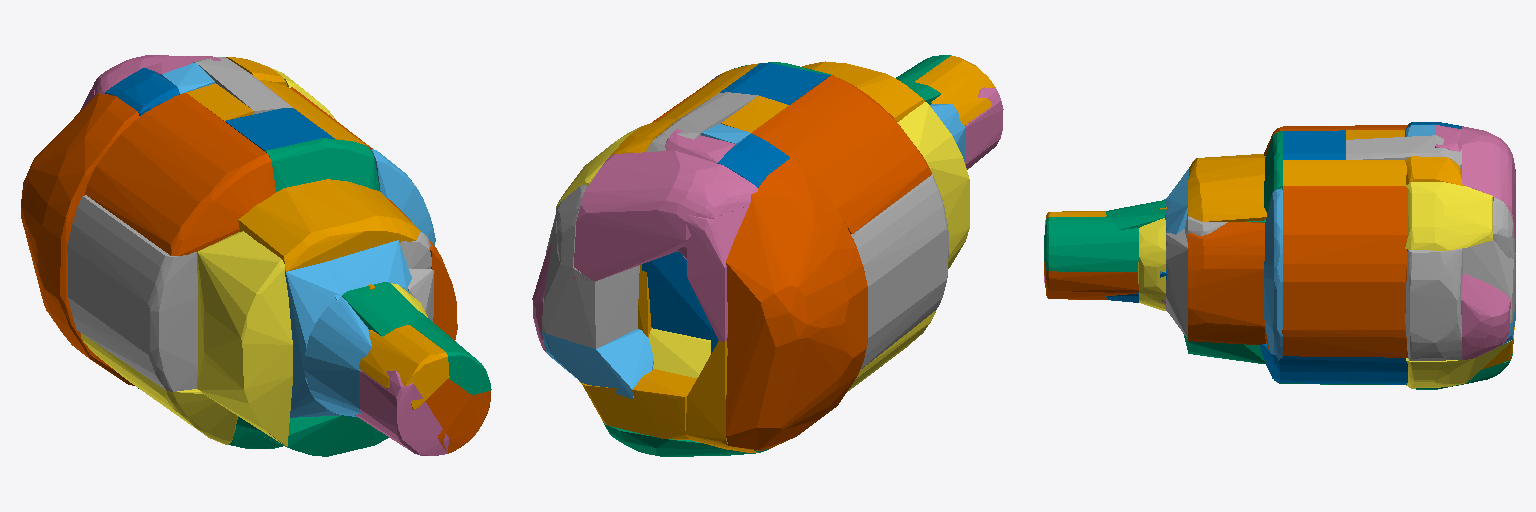
--- Render facts (derived) ---
3 views of the same robot in one strip: view 1: azimuth 30°, elevation 25°; view 2: azimuth 150°, elevation 25°; view 3: azimuth 270°, elevation 25° (orthographic).
Robot: root — 64 links, 63 joints (63 fixed); root link link_screw~screw1_convex_piece_0; default pose: every joint at zero.
Links seen in each view (by area): view 1: link_screw~screw1_convex_piece_61, link_screw~screw1_convex_piece_31, link_screw~screw1_convex_piece_51, link_screw~screw1_convex_piece_45, link_screw~screw1_convex_piece_32, link_screw~screw1_convex_piece_57, link_screw~screw1_convex_piece_54, link_screw~screw1_convex_piece_26, link_screw~screw1_convex_piece_25, link_screw~screw1_convex_piece_48, link_screw~screw1_convex_piece_43, link_screw~screw1_convex_piece_42 (+17 smaller); view 2: link_screw~screw1_convex_piece_45, link_screw~screw1_convex_piece_62, link_screw~screw1_convex_piece_61, link_screw~screw1_convex_piece_31, link_screw~screw1_convex_piece_55, link_screw~screw1_convex_piece_56, link_screw~screw1_convex_piece_51, link_screw~screw1_convex_piece_6, link_screw~screw1_convex_piece_33, link_screw~screw1_convex_piece_60, link_screw~screw1_convex_piece_40, link_screw~screw1_convex_piece_48 (+18 smaller); view 3: link_screw~screw1_convex_piece_21, link_screw~screw1_convex_piece_29, link_screw~screw1_convex_piece_23, link_screw~screw1_convex_piece_19, link_screw~screw1_convex_piece_32, link_screw~screw1_convex_piece_18, link_screw~screw1_convex_piece_28, link_screw~screw1_convex_piece_37, link_screw~screw1_convex_piece_62, link_screw~screw1_convex_piece_22, link_screw~screw1_convex_piece_24, link_screw~screw1_convex_piece_41 (+15 smaller).
Boxes of the visible links, bbox=[...] form: link_screw~screw1_convex_piece_61: bbox=[85, 93, 275, 255]; link_screw~screw1_convex_piece_31: bbox=[67, 195, 197, 391]; link_screw~screw1_convex_piece_51: bbox=[197, 231, 292, 446]; link_screw~screw1_convex_piece_45: bbox=[21, 92, 139, 385]; link_screw~screw1_convex_piece_32: bbox=[238, 179, 420, 271]; link_screw~screw1_convex_piece_57: bbox=[304, 296, 371, 416]; link_screw~screw1_convex_piece_54: bbox=[356, 370, 448, 455]; link_screw~screw1_convex_piece_26: bbox=[265, 138, 379, 191]; link_screw~screw1_convex_piece_25: bbox=[285, 262, 341, 417]; link_screw~screw1_convex_piece_48: bbox=[359, 325, 449, 409]; link_screw~screw1_convex_piece_43: bbox=[81, 333, 238, 444]; link_screw~screw1_convex_piece_42: bbox=[236, 415, 388, 456]; link_screw~screw1_convex_piece_45: bbox=[726, 158, 867, 451]; link_screw~screw1_convex_piece_62: bbox=[573, 151, 757, 281]; link_screw~screw1_convex_piece_61: bbox=[752, 75, 931, 233]; link_screw~screw1_convex_piece_31: bbox=[851, 174, 948, 369]; link_screw~screw1_convex_piece_55: bbox=[542, 217, 639, 348]; link_screw~screw1_convex_piece_56: bbox=[582, 369, 696, 440]; link_screw~screw1_convex_piece_51: bbox=[897, 102, 969, 268]; link_screw~screw1_convex_piece_6: bbox=[686, 206, 748, 341]; link_screw~screw1_convex_piece_33: bbox=[542, 329, 653, 399]; link_screw~screw1_convex_piece_60: bbox=[642, 251, 711, 339]; link_screw~screw1_convex_piece_40: bbox=[685, 341, 757, 452]; link_screw~screw1_convex_piece_48: bbox=[915, 55, 995, 125]; link_screw~screw1_convex_piece_21: bbox=[1283, 186, 1407, 329]; link_screw~screw1_convex_piece_29: bbox=[1188, 222, 1265, 344]; link_screw~screw1_convex_piece_23: bbox=[1405, 248, 1462, 360]; link_screw~screw1_convex_piece_19: bbox=[1405, 182, 1492, 250]; link_screw~screw1_convex_piece_32: bbox=[1188, 154, 1266, 221]; link_screw~screw1_convex_piece_18: bbox=[1044, 217, 1138, 272]; link_screw~screw1_convex_piece_28: bbox=[1259, 344, 1407, 384]; link_screw~screw1_convex_piece_37: bbox=[1265, 324, 1407, 357]; link_screw~screw1_convex_piece_62: bbox=[1462, 126, 1515, 261]; link_screw~screw1_convex_piece_22: bbox=[1461, 273, 1510, 359]; link_screw~screw1_convex_piece_24: bbox=[1283, 160, 1406, 185]; link_screw~screw1_convex_piece_41: bbox=[1264, 188, 1282, 360].
Size in the robot's own frame: 0.0341 by 0.0612 by 0.0346 metres.
Meshes: 64 distinct files referenced, 64 mesh visuals loaded (64 OBJ).

The robot description file, URDF, robot "root":
<robot name="root">
  <link name="link_screw~screw1_convex_piece_0">
    <inertial>
      <origin xyz="0 0 0" rpy="0 0 0"/>
      <mass value="4.80E-04"/>
      <inertia ixx="9.96E-08" ixy="2.38E-09" ixz="8.95E-09" iyy="9.26E-08" iyz="-2.38E-08" izz="9.88E-09"/>
    </inertial>
    <visual>
      <origin xyz="0 0 0" rpy="0 0 0"/>
      <geometry>
        <mesh filename="screw~screw1_convex_piece_0.obj" scale="1.0000E+00 1.0000E+00 1.0000E+00"/>
      </geometry>
      <material name=""/>
    </visual>
    <collision>
      <origin xyz="0 0 0" rpy="0 0 0"/>
      <geometry>
        <mesh filename="screw~screw1_convex_piece_0.obj" scale="1.0000E+00 1.0000E+00 1.0000E+00"/>
      </geometry>
    </collision>
  </link>
  <link name="link_screw~screw1_convex_piece_1">
    <inertial>
      <origin xyz="0 0 0" rpy="0 0 0"/>
      <mass value="1.46E-03"/>
      <inertia ixx="6.79E-08" ixy="-4.08E-08" ixz="-9.71E-09" iyy="1.23E-07" iyz="-4.87E-09" izz="1.10E-07"/>
    </inertial>
    <visual>
      <origin xyz="0 0 0" rpy="0 0 0"/>
      <geometry>
        <mesh filename="screw~screw1_convex_piece_1.obj" scale="1.0000E+00 1.0000E+00 1.0000E+00"/>
      </geometry>
      <material name=""/>
    </visual>
    <collision>
      <origin xyz="0 0 0" rpy="0 0 0"/>
      <geometry>
        <mesh filename="screw~screw1_convex_piece_1.obj" scale="1.0000E+00 1.0000E+00 1.0000E+00"/>
      </geometry>
    </collision>
  </link>
  <joint name="link_screw~screw1_convex_piece_1_joint" type="fixed">
    <origin xyz="0 0 0" rpy="0 0 0"/>
    <parent link="link_screw~screw1_convex_piece_0"/>
    <child link="link_screw~screw1_convex_piece_1"/>
  </joint>
  <link name="link_screw~screw1_convex_piece_2">
    <inertial>
      <origin xyz="0 0 0" rpy="0 0 0"/>
      <mass value="2.32E-03"/>
      <inertia ixx="2.41E-07" ixy="1.24E-07" ixz="-7.33E-08" iyy="1.83E-07" iyz="7.82E-08" izz="3.02E-07"/>
    </inertial>
    <visual>
      <origin xyz="0 0 0" rpy="0 0 0"/>
      <geometry>
        <mesh filename="screw~screw1_convex_piece_2.obj" scale="1.0000E+00 1.0000E+00 1.0000E+00"/>
      </geometry>
      <material name=""/>
    </visual>
    <collision>
      <origin xyz="0 0 0" rpy="0 0 0"/>
      <geometry>
        <mesh filename="screw~screw1_convex_piece_2.obj" scale="1.0000E+00 1.0000E+00 1.0000E+00"/>
      </geometry>
    </collision>
  </link>
  <joint name="link_screw~screw1_convex_piece_2_joint" type="fixed">
    <origin xyz="0 0 0" rpy="0 0 0"/>
    <parent link="link_screw~screw1_convex_piece_1"/>
    <child link="link_screw~screw1_convex_piece_2"/>
  </joint>
  <link name="link_screw~screw1_convex_piece_3">
    <inertial>
      <origin xyz="0 0 0" rpy="0 0 0"/>
      <mass value="2.25E-03"/>
      <inertia ixx="9.09E-08" ixy="-6.26E-09" ixz="3.92E-09" iyy="2.51E-07" iyz="6.45E-10" izz="2.56E-07"/>
    </inertial>
    <visual>
      <origin xyz="0 0 0" rpy="0 0 0"/>
      <geometry>
        <mesh filename="screw~screw1_convex_piece_3.obj" scale="1.0000E+00 1.0000E+00 1.0000E+00"/>
      </geometry>
      <material name=""/>
    </visual>
    <collision>
      <origin xyz="0 0 0" rpy="0 0 0"/>
      <geometry>
        <mesh filename="screw~screw1_convex_piece_3.obj" scale="1.0000E+00 1.0000E+00 1.0000E+00"/>
      </geometry>
    </collision>
  </link>
  <joint name="link_screw~screw1_convex_piece_3_joint" type="fixed">
    <origin xyz="0 0 0" rpy="0 0 0"/>
    <parent link="link_screw~screw1_convex_piece_2"/>
    <child link="link_screw~screw1_convex_piece_3"/>
  </joint>
  <link name="link_screw~screw1_convex_piece_4">
    <inertial>
      <origin xyz="0 0 0" rpy="0 0 0"/>
      <mass value="1.32E-03"/>
      <inertia ixx="2.61E-07" ixy="5.48E-09" ixz="-1.69E-08" iyy="2.40E-07" iyz="7.14E-08" izz="3.89E-08"/>
    </inertial>
    <visual>
      <origin xyz="0 0 0" rpy="0 0 0"/>
      <geometry>
        <mesh filename="screw~screw1_convex_piece_4.obj" scale="1.0000E+00 1.0000E+00 1.0000E+00"/>
      </geometry>
      <material name=""/>
    </visual>
    <collision>
      <origin xyz="0 0 0" rpy="0 0 0"/>
      <geometry>
        <mesh filename="screw~screw1_convex_piece_4.obj" scale="1.0000E+00 1.0000E+00 1.0000E+00"/>
      </geometry>
    </collision>
  </link>
  <joint name="link_screw~screw1_convex_piece_4_joint" type="fixed">
    <origin xyz="0 0 0" rpy="0 0 0"/>
    <parent link="link_screw~screw1_convex_piece_3"/>
    <child link="link_screw~screw1_convex_piece_4"/>
  </joint>
  <link name="link_screw~screw1_convex_piece_5">
    <inertial>
      <origin xyz="0 0 0" rpy="0 0 0"/>
      <mass value="1.28E-03"/>
      <inertia ixx="1.69E-07" ixy="2.48E-08" ixz="-2.33E-08" iyy="7.94E-08" iyz="7.00E-08" izz="1.11E-07"/>
    </inertial>
    <visual>
      <origin xyz="0 0 0" rpy="0 0 0"/>
      <geometry>
        <mesh filename="screw~screw1_convex_piece_5.obj" scale="1.0000E+00 1.0000E+00 1.0000E+00"/>
      </geometry>
      <material name=""/>
    </visual>
    <collision>
      <origin xyz="0 0 0" rpy="0 0 0"/>
      <geometry>
        <mesh filename="screw~screw1_convex_piece_5.obj" scale="1.0000E+00 1.0000E+00 1.0000E+00"/>
      </geometry>
    </collision>
  </link>
  <joint name="link_screw~screw1_convex_piece_5_joint" type="fixed">
    <origin xyz="0 0 0" rpy="0 0 0"/>
    <parent link="link_screw~screw1_convex_piece_4"/>
    <child link="link_screw~screw1_convex_piece_5"/>
  </joint>
  <link name="link_screw~screw1_convex_piece_6">
    <inertial>
      <origin xyz="0 0 0" rpy="0 0 0"/>
      <mass value="9.29E-04"/>
      <inertia ixx="3.83E-07" ixy="1.06E-07" ixz="4.30E-08" iyy="1.02E-07" iyz="-1.31E-07" izz="3.55E-07"/>
    </inertial>
    <visual>
      <origin xyz="0 0 0" rpy="0 0 0"/>
      <geometry>
        <mesh filename="screw~screw1_convex_piece_6.obj" scale="1.0000E+00 1.0000E+00 1.0000E+00"/>
      </geometry>
      <material name=""/>
    </visual>
    <collision>
      <origin xyz="0 0 0" rpy="0 0 0"/>
      <geometry>
        <mesh filename="screw~screw1_convex_piece_6.obj" scale="1.0000E+00 1.0000E+00 1.0000E+00"/>
      </geometry>
    </collision>
  </link>
  <joint name="link_screw~screw1_convex_piece_6_joint" type="fixed">
    <origin xyz="0 0 0" rpy="0 0 0"/>
    <parent link="link_screw~screw1_convex_piece_5"/>
    <child link="link_screw~screw1_convex_piece_6"/>
  </joint>
  <link name="link_screw~screw1_convex_piece_7">
    <inertial>
      <origin xyz="0 0 0" rpy="0 0 0"/>
      <mass value="6.60E-04"/>
      <inertia ixx="4.32E-08" ixy="6.39E-09" ixz="-4.72E-09" iyy="1.26E-08" iyz="9.67E-09" izz="3.71E-08"/>
    </inertial>
    <visual>
      <origin xyz="0 0 0" rpy="0 0 0"/>
      <geometry>
        <mesh filename="screw~screw1_convex_piece_7.obj" scale="1.0000E+00 1.0000E+00 1.0000E+00"/>
      </geometry>
      <material name=""/>
    </visual>
    <collision>
      <origin xyz="0 0 0" rpy="0 0 0"/>
      <geometry>
        <mesh filename="screw~screw1_convex_piece_7.obj" scale="1.0000E+00 1.0000E+00 1.0000E+00"/>
      </geometry>
    </collision>
  </link>
  <joint name="link_screw~screw1_convex_piece_7_joint" type="fixed">
    <origin xyz="0 0 0" rpy="0 0 0"/>
    <parent link="link_screw~screw1_convex_piece_6"/>
    <child link="link_screw~screw1_convex_piece_7"/>
  </joint>
  <link name="link_screw~screw1_convex_piece_8">
    <inertial>
      <origin xyz="0 0 0" rpy="0 0 0"/>
      <mass value="1.54E-03"/>
      <inertia ixx="2.80E-07" ixy="-2.34E-08" ixz="8.74E-09" iyy="3.37E-08" iyz="6.23E-08" izz="2.57E-07"/>
    </inertial>
    <visual>
      <origin xyz="0 0 0" rpy="0 0 0"/>
      <geometry>
        <mesh filename="screw~screw1_convex_piece_8.obj" scale="1.0000E+00 1.0000E+00 1.0000E+00"/>
      </geometry>
      <material name=""/>
    </visual>
    <collision>
      <origin xyz="0 0 0" rpy="0 0 0"/>
      <geometry>
        <mesh filename="screw~screw1_convex_piece_8.obj" scale="1.0000E+00 1.0000E+00 1.0000E+00"/>
      </geometry>
    </collision>
  </link>
  <joint name="link_screw~screw1_convex_piece_8_joint" type="fixed">
    <origin xyz="0 0 0" rpy="0 0 0"/>
    <parent link="link_screw~screw1_convex_piece_7"/>
    <child link="link_screw~screw1_convex_piece_8"/>
  </joint>
  <link name="link_screw~screw1_convex_piece_9">
    <inertial>
      <origin xyz="0 0 0" rpy="0 0 0"/>
      <mass value="2.65E-03"/>
      <inertia ixx="3.70E-07" ixy="1.79E-07" ixz="6.34E-08" iyy="1.86E-07" iyz="-8.53E-08" izz="4.64E-07"/>
    </inertial>
    <visual>
      <origin xyz="0 0 0" rpy="0 0 0"/>
      <geometry>
        <mesh filename="screw~screw1_convex_piece_9.obj" scale="1.0000E+00 1.0000E+00 1.0000E+00"/>
      </geometry>
      <material name=""/>
    </visual>
    <collision>
      <origin xyz="0 0 0" rpy="0 0 0"/>
      <geometry>
        <mesh filename="screw~screw1_convex_piece_9.obj" scale="1.0000E+00 1.0000E+00 1.0000E+00"/>
      </geometry>
    </collision>
  </link>
  <joint name="link_screw~screw1_convex_piece_9_joint" type="fixed">
    <origin xyz="0 0 0" rpy="0 0 0"/>
    <parent link="link_screw~screw1_convex_piece_8"/>
    <child link="link_screw~screw1_convex_piece_9"/>
  </joint>
  <link name="link_screw~screw1_convex_piece_10">
    <inertial>
      <origin xyz="0 0 0" rpy="0 0 0"/>
      <mass value="1.97E-03"/>
      <inertia ixx="5.12E-07" ixy="-1.04E-08" ixz="1.31E-08" iyy="2.84E-07" iyz="2.49E-07" izz="3.28E-07"/>
    </inertial>
    <visual>
      <origin xyz="0 0 0" rpy="0 0 0"/>
      <geometry>
        <mesh filename="screw~screw1_convex_piece_10.obj" scale="1.0000E+00 1.0000E+00 1.0000E+00"/>
      </geometry>
      <material name=""/>
    </visual>
    <collision>
      <origin xyz="0 0 0" rpy="0 0 0"/>
      <geometry>
        <mesh filename="screw~screw1_convex_piece_10.obj" scale="1.0000E+00 1.0000E+00 1.0000E+00"/>
      </geometry>
    </collision>
  </link>
  <joint name="link_screw~screw1_convex_piece_10_joint" type="fixed">
    <origin xyz="0 0 0" rpy="0 0 0"/>
    <parent link="link_screw~screw1_convex_piece_9"/>
    <child link="link_screw~screw1_convex_piece_10"/>
  </joint>
  <link name="link_screw~screw1_convex_piece_11">
    <inertial>
      <origin xyz="0 0 0" rpy="0 0 0"/>
      <mass value="3.14E-03"/>
      <inertia ixx="3.65E-07" ixy="-4.69E-08" ixz="8.00E-08" iyy="2.36E-07" iyz="9.63E-08" izz="2.45E-07"/>
    </inertial>
    <visual>
      <origin xyz="0 0 0" rpy="0 0 0"/>
      <geometry>
        <mesh filename="screw~screw1_convex_piece_11.obj" scale="1.0000E+00 1.0000E+00 1.0000E+00"/>
      </geometry>
      <material name=""/>
    </visual>
    <collision>
      <origin xyz="0 0 0" rpy="0 0 0"/>
      <geometry>
        <mesh filename="screw~screw1_convex_piece_11.obj" scale="1.0000E+00 1.0000E+00 1.0000E+00"/>
      </geometry>
    </collision>
  </link>
  <joint name="link_screw~screw1_convex_piece_11_joint" type="fixed">
    <origin xyz="0 0 0" rpy="0 0 0"/>
    <parent link="link_screw~screw1_convex_piece_10"/>
    <child link="link_screw~screw1_convex_piece_11"/>
  </joint>
  <link name="link_screw~screw1_convex_piece_12">
    <inertial>
      <origin xyz="0 0 0" rpy="0 0 0"/>
      <mass value="5.05E-03"/>
      <inertia ixx="3.67E-07" ixy="-1.09E-07" ixz="-2.01E-08" iyy="2.59E-07" iyz="-1.55E-08" izz="4.71E-07"/>
    </inertial>
    <visual>
      <origin xyz="0 0 0" rpy="0 0 0"/>
      <geometry>
        <mesh filename="screw~screw1_convex_piece_12.obj" scale="1.0000E+00 1.0000E+00 1.0000E+00"/>
      </geometry>
      <material name=""/>
    </visual>
    <collision>
      <origin xyz="0 0 0" rpy="0 0 0"/>
      <geometry>
        <mesh filename="screw~screw1_convex_piece_12.obj" scale="1.0000E+00 1.0000E+00 1.0000E+00"/>
      </geometry>
    </collision>
  </link>
  <joint name="link_screw~screw1_convex_piece_12_joint" type="fixed">
    <origin xyz="0 0 0" rpy="0 0 0"/>
    <parent link="link_screw~screw1_convex_piece_11"/>
    <child link="link_screw~screw1_convex_piece_12"/>
  </joint>
  <link name="link_screw~screw1_convex_piece_13">
    <inertial>
      <origin xyz="0 0 0" rpy="0 0 0"/>
      <mass value="2.34E-03"/>
      <inertia ixx="2.57E-07" ixy="2.56E-10" ixz="8.03E-10" iyy="2.53E-07" iyz="-6.82E-09" izz="9.65E-08"/>
    </inertial>
    <visual>
      <origin xyz="0 0 0" rpy="0 0 0"/>
      <geometry>
        <mesh filename="screw~screw1_convex_piece_13.obj" scale="1.0000E+00 1.0000E+00 1.0000E+00"/>
      </geometry>
      <material name=""/>
    </visual>
    <collision>
      <origin xyz="0 0 0" rpy="0 0 0"/>
      <geometry>
        <mesh filename="screw~screw1_convex_piece_13.obj" scale="1.0000E+00 1.0000E+00 1.0000E+00"/>
      </geometry>
    </collision>
  </link>
  <joint name="link_screw~screw1_convex_piece_13_joint" type="fixed">
    <origin xyz="0 0 0" rpy="0 0 0"/>
    <parent link="link_screw~screw1_convex_piece_12"/>
    <child link="link_screw~screw1_convex_piece_13"/>
  </joint>
  <link name="link_screw~screw1_convex_piece_14">
    <inertial>
      <origin xyz="0 0 0" rpy="0 0 0"/>
      <mass value="2.22E-03"/>
      <inertia ixx="3.66E-07" ixy="5.08E-08" ixz="4.03E-08" iyy="9.96E-08" iyz="-8.82E-08" izz="3.24E-07"/>
    </inertial>
    <visual>
      <origin xyz="0 0 0" rpy="0 0 0"/>
      <geometry>
        <mesh filename="screw~screw1_convex_piece_14.obj" scale="1.0000E+00 1.0000E+00 1.0000E+00"/>
      </geometry>
      <material name=""/>
    </visual>
    <collision>
      <origin xyz="0 0 0" rpy="0 0 0"/>
      <geometry>
        <mesh filename="screw~screw1_convex_piece_14.obj" scale="1.0000E+00 1.0000E+00 1.0000E+00"/>
      </geometry>
    </collision>
  </link>
  <joint name="link_screw~screw1_convex_piece_14_joint" type="fixed">
    <origin xyz="0 0 0" rpy="0 0 0"/>
    <parent link="link_screw~screw1_convex_piece_13"/>
    <child link="link_screw~screw1_convex_piece_14"/>
  </joint>
  <link name="link_screw~screw1_convex_piece_15">
    <inertial>
      <origin xyz="0 0 0" rpy="0 0 0"/>
      <mass value="1.20E-04"/>
      <inertia ixx="5.70E-08" ixy="-2.56E-08" ixz="-9.71E-09" iyy="2.10E-08" iyz="-1.87E-08" izz="6.28E-08"/>
    </inertial>
    <visual>
      <origin xyz="0 0 0" rpy="0 0 0"/>
      <geometry>
        <mesh filename="screw~screw1_convex_piece_15.obj" scale="1.0000E+00 1.0000E+00 1.0000E+00"/>
      </geometry>
      <material name=""/>
    </visual>
    <collision>
      <origin xyz="0 0 0" rpy="0 0 0"/>
      <geometry>
        <mesh filename="screw~screw1_convex_piece_15.obj" scale="1.0000E+00 1.0000E+00 1.0000E+00"/>
      </geometry>
    </collision>
  </link>
  <joint name="link_screw~screw1_convex_piece_15_joint" type="fixed">
    <origin xyz="0 0 0" rpy="0 0 0"/>
    <parent link="link_screw~screw1_convex_piece_14"/>
    <child link="link_screw~screw1_convex_piece_15"/>
  </joint>
  <link name="link_screw~screw1_convex_piece_16">
    <inertial>
      <origin xyz="0 0 0" rpy="0 0 0"/>
      <mass value="2.30E-03"/>
      <inertia ixx="4.57E-07" ixy="-1.84E-07" ixz="-5.27E-08" iyy="2.47E-07" iyz="-8.90E-08" izz="4.37E-07"/>
    </inertial>
    <visual>
      <origin xyz="0 0 0" rpy="0 0 0"/>
      <geometry>
        <mesh filename="screw~screw1_convex_piece_16.obj" scale="1.0000E+00 1.0000E+00 1.0000E+00"/>
      </geometry>
      <material name=""/>
    </visual>
    <collision>
      <origin xyz="0 0 0" rpy="0 0 0"/>
      <geometry>
        <mesh filename="screw~screw1_convex_piece_16.obj" scale="1.0000E+00 1.0000E+00 1.0000E+00"/>
      </geometry>
    </collision>
  </link>
  <joint name="link_screw~screw1_convex_piece_16_joint" type="fixed">
    <origin xyz="0 0 0" rpy="0 0 0"/>
    <parent link="link_screw~screw1_convex_piece_15"/>
    <child link="link_screw~screw1_convex_piece_16"/>
  </joint>
  <link name="link_screw~screw1_convex_piece_17">
    <inertial>
      <origin xyz="0 0 0" rpy="0 0 0"/>
      <mass value="7.86E-04"/>
      <inertia ixx="1.53E-07" ixy="1.22E-08" ixz="1.09E-08" iyy="8.13E-08" iyz="-6.71E-08" izz="7.82E-08"/>
    </inertial>
    <visual>
      <origin xyz="0 0 0" rpy="0 0 0"/>
      <geometry>
        <mesh filename="screw~screw1_convex_piece_17.obj" scale="1.0000E+00 1.0000E+00 1.0000E+00"/>
      </geometry>
      <material name=""/>
    </visual>
    <collision>
      <origin xyz="0 0 0" rpy="0 0 0"/>
      <geometry>
        <mesh filename="screw~screw1_convex_piece_17.obj" scale="1.0000E+00 1.0000E+00 1.0000E+00"/>
      </geometry>
    </collision>
  </link>
  <joint name="link_screw~screw1_convex_piece_17_joint" type="fixed">
    <origin xyz="0 0 0" rpy="0 0 0"/>
    <parent link="link_screw~screw1_convex_piece_16"/>
    <child link="link_screw~screw1_convex_piece_17"/>
  </joint>
  <link name="link_screw~screw1_convex_piece_18">
    <inertial>
      <origin xyz="0 0 0" rpy="0 0 0"/>
      <mass value="6.26E-04"/>
      <inertia ixx="6.94E-07" ixy="6.23E-08" ixz="-4.95E-09" iyy="1.35E-08" iyz="6.10E-08" izz="6.94E-07"/>
    </inertial>
    <visual>
      <origin xyz="0 0 0" rpy="0 0 0"/>
      <geometry>
        <mesh filename="screw~screw1_convex_piece_18.obj" scale="1.0000E+00 1.0000E+00 1.0000E+00"/>
      </geometry>
      <material name=""/>
    </visual>
    <collision>
      <origin xyz="0 0 0" rpy="0 0 0"/>
      <geometry>
        <mesh filename="screw~screw1_convex_piece_18.obj" scale="1.0000E+00 1.0000E+00 1.0000E+00"/>
      </geometry>
    </collision>
  </link>
  <joint name="link_screw~screw1_convex_piece_18_joint" type="fixed">
    <origin xyz="0 0 0" rpy="0 0 0"/>
    <parent link="link_screw~screw1_convex_piece_17"/>
    <child link="link_screw~screw1_convex_piece_18"/>
  </joint>
  <link name="link_screw~screw1_convex_piece_19">
    <inertial>
      <origin xyz="0 0 0" rpy="0 0 0"/>
      <mass value="7.23E-04"/>
      <inertia ixx="2.06E-07" ixy="-1.04E-07" ixz="-8.32E-08" iyy="1.72E-07" iyz="-9.58E-08" izz="2.19E-07"/>
    </inertial>
    <visual>
      <origin xyz="0 0 0" rpy="0 0 0"/>
      <geometry>
        <mesh filename="screw~screw1_convex_piece_19.obj" scale="1.0000E+00 1.0000E+00 1.0000E+00"/>
      </geometry>
      <material name=""/>
    </visual>
    <collision>
      <origin xyz="0 0 0" rpy="0 0 0"/>
      <geometry>
        <mesh filename="screw~screw1_convex_piece_19.obj" scale="1.0000E+00 1.0000E+00 1.0000E+00"/>
      </geometry>
    </collision>
  </link>
  <joint name="link_screw~screw1_convex_piece_19_joint" type="fixed">
    <origin xyz="0 0 0" rpy="0 0 0"/>
    <parent link="link_screw~screw1_convex_piece_18"/>
    <child link="link_screw~screw1_convex_piece_19"/>
  </joint>
  <link name="link_screw~screw1_convex_piece_20">
    <inertial>
      <origin xyz="0 0 0" rpy="0 0 0"/>
      <mass value="2.56E-03"/>
      <inertia ixx="5.28E-07" ixy="1.76E-07" ixz="5.18E-08" iyy="2.56E-07" iyz="-1.07E-07" izz="4.57E-07"/>
    </inertial>
    <visual>
      <origin xyz="0 0 0" rpy="0 0 0"/>
      <geometry>
        <mesh filename="screw~screw1_convex_piece_20.obj" scale="1.0000E+00 1.0000E+00 1.0000E+00"/>
      </geometry>
      <material name=""/>
    </visual>
    <collision>
      <origin xyz="0 0 0" rpy="0 0 0"/>
      <geometry>
        <mesh filename="screw~screw1_convex_piece_20.obj" scale="1.0000E+00 1.0000E+00 1.0000E+00"/>
      </geometry>
    </collision>
  </link>
  <joint name="link_screw~screw1_convex_piece_20_joint" type="fixed">
    <origin xyz="0 0 0" rpy="0 0 0"/>
    <parent link="link_screw~screw1_convex_piece_19"/>
    <child link="link_screw~screw1_convex_piece_20"/>
  </joint>
  <link name="link_screw~screw1_convex_piece_21">
    <inertial>
      <origin xyz="0 0 0" rpy="0 0 0"/>
      <mass value="4.19E-03"/>
      <inertia ixx="2.37E-07" ixy="8.56E-09" ixz="-2.00E-07" iyy="8.29E-07" iyz="1.06E-09" izz="7.72E-07"/>
    </inertial>
    <visual>
      <origin xyz="0 0 0" rpy="0 0 0"/>
      <geometry>
        <mesh filename="screw~screw1_convex_piece_21.obj" scale="1.0000E+00 1.0000E+00 1.0000E+00"/>
      </geometry>
      <material name=""/>
    </visual>
    <collision>
      <origin xyz="0 0 0" rpy="0 0 0"/>
      <geometry>
        <mesh filename="screw~screw1_convex_piece_21.obj" scale="1.0000E+00 1.0000E+00 1.0000E+00"/>
      </geometry>
    </collision>
  </link>
  <joint name="link_screw~screw1_convex_piece_21_joint" type="fixed">
    <origin xyz="0 0 0" rpy="0 0 0"/>
    <parent link="link_screw~screw1_convex_piece_20"/>
    <child link="link_screw~screw1_convex_piece_21"/>
  </joint>
  <link name="link_screw~screw1_convex_piece_22">
    <inertial>
      <origin xyz="0 0 0" rpy="0 0 0"/>
      <mass value="3.16E-04"/>
      <inertia ixx="1.03E-07" ixy="-8.04E-08" ixz="1.01E-08" iyy="7.04E-08" iyz="1.25E-08" izz="1.65E-07"/>
    </inertial>
    <visual>
      <origin xyz="0 0 0" rpy="0 0 0"/>
      <geometry>
        <mesh filename="screw~screw1_convex_piece_22.obj" scale="1.0000E+00 1.0000E+00 1.0000E+00"/>
      </geometry>
      <material name=""/>
    </visual>
    <collision>
      <origin xyz="0 0 0" rpy="0 0 0"/>
      <geometry>
        <mesh filename="screw~screw1_convex_piece_22.obj" scale="1.0000E+00 1.0000E+00 1.0000E+00"/>
      </geometry>
    </collision>
  </link>
  <joint name="link_screw~screw1_convex_piece_22_joint" type="fixed">
    <origin xyz="0 0 0" rpy="0 0 0"/>
    <parent link="link_screw~screw1_convex_piece_21"/>
    <child link="link_screw~screw1_convex_piece_22"/>
  </joint>
  <link name="link_screw~screw1_convex_piece_23">
    <inertial>
      <origin xyz="0 0 0" rpy="0 0 0"/>
      <mass value="2.51E-03"/>
      <inertia ixx="3.93E-07" ixy="-3.67E-07" ixz="3.75E-09" iyy="4.70E-07" iyz="3.16E-09" izz="7.60E-07"/>
    </inertial>
    <visual>
      <origin xyz="0 0 0" rpy="0 0 0"/>
      <geometry>
        <mesh filename="screw~screw1_convex_piece_23.obj" scale="1.0000E+00 1.0000E+00 1.0000E+00"/>
      </geometry>
      <material name=""/>
    </visual>
    <collision>
      <origin xyz="0 0 0" rpy="0 0 0"/>
      <geometry>
        <mesh filename="screw~screw1_convex_piece_23.obj" scale="1.0000E+00 1.0000E+00 1.0000E+00"/>
      </geometry>
    </collision>
  </link>
  <joint name="link_screw~screw1_convex_piece_23_joint" type="fixed">
    <origin xyz="0 0 0" rpy="0 0 0"/>
    <parent link="link_screw~screw1_convex_piece_22"/>
    <child link="link_screw~screw1_convex_piece_23"/>
  </joint>
  <link name="link_screw~screw1_convex_piece_24">
    <inertial>
      <origin xyz="0 0 0" rpy="0 0 0"/>
      <mass value="1.07E-03"/>
      <inertia ixx="1.90E-07" ixy="2.37E-09" ixz="-9.33E-08" iyy="2.22E-07" iyz="4.09E-09" izz="7.77E-08"/>
    </inertial>
    <visual>
      <origin xyz="0 0 0" rpy="0 0 0"/>
      <geometry>
        <mesh filename="screw~screw1_convex_piece_24.obj" scale="1.0000E+00 1.0000E+00 1.0000E+00"/>
      </geometry>
      <material name=""/>
    </visual>
    <collision>
      <origin xyz="0 0 0" rpy="0 0 0"/>
      <geometry>
        <mesh filename="screw~screw1_convex_piece_24.obj" scale="1.0000E+00 1.0000E+00 1.0000E+00"/>
      </geometry>
    </collision>
  </link>
  <joint name="link_screw~screw1_convex_piece_24_joint" type="fixed">
    <origin xyz="0 0 0" rpy="0 0 0"/>
    <parent link="link_screw~screw1_convex_piece_23"/>
    <child link="link_screw~screw1_convex_piece_24"/>
  </joint>
  <link name="link_screw~screw1_convex_piece_25">
    <inertial>
      <origin xyz="0 0 0" rpy="0 0 0"/>
      <mass value="1.67E-03"/>
      <inertia ixx="6.53E-07" ixy="-1.67E-07" ixz="7.75E-09" iyy="8.71E-08" iyz="2.63E-08" izz="6.64E-07"/>
    </inertial>
    <visual>
      <origin xyz="0 0 0" rpy="0 0 0"/>
      <geometry>
        <mesh filename="screw~screw1_convex_piece_25.obj" scale="1.0000E+00 1.0000E+00 1.0000E+00"/>
      </geometry>
      <material name=""/>
    </visual>
    <collision>
      <origin xyz="0 0 0" rpy="0 0 0"/>
      <geometry>
        <mesh filename="screw~screw1_convex_piece_25.obj" scale="1.0000E+00 1.0000E+00 1.0000E+00"/>
      </geometry>
    </collision>
  </link>
  <joint name="link_screw~screw1_convex_piece_25_joint" type="fixed">
    <origin xyz="0 0 0" rpy="0 0 0"/>
    <parent link="link_screw~screw1_convex_piece_24"/>
    <child link="link_screw~screw1_convex_piece_25"/>
  </joint>
  <link name="link_screw~screw1_convex_piece_26">
    <inertial>
      <origin xyz="0 0 0" rpy="0 0 0"/>
      <mass value="4.54E-04"/>
      <inertia ixx="1.11E-07" ixy="1.14E-08" ixz="-1.46E-08" iyy="7.98E-08" iyz="5.25E-08" izz="4.84E-08"/>
    </inertial>
    <visual>
      <origin xyz="0 0 0" rpy="0 0 0"/>
      <geometry>
        <mesh filename="screw~screw1_convex_piece_26.obj" scale="1.0000E+00 1.0000E+00 1.0000E+00"/>
      </geometry>
      <material name=""/>
    </visual>
    <collision>
      <origin xyz="0 0 0" rpy="0 0 0"/>
      <geometry>
        <mesh filename="screw~screw1_convex_piece_26.obj" scale="1.0000E+00 1.0000E+00 1.0000E+00"/>
      </geometry>
    </collision>
  </link>
  <joint name="link_screw~screw1_convex_piece_26_joint" type="fixed">
    <origin xyz="0 0 0" rpy="0 0 0"/>
    <parent link="link_screw~screw1_convex_piece_25"/>
    <child link="link_screw~screw1_convex_piece_26"/>
  </joint>
  <link name="link_screw~screw1_convex_piece_27">
    <inertial>
      <origin xyz="0 0 0" rpy="0 0 0"/>
      <mass value="7.50E-04"/>
      <inertia ixx="2.08E-07" ixy="-1.01E-07" ixz="8.31E-08" iyy="1.72E-07" iyz="9.70E-08" izz="2.14E-07"/>
    </inertial>
    <visual>
      <origin xyz="0 0 0" rpy="0 0 0"/>
      <geometry>
        <mesh filename="screw~screw1_convex_piece_27.obj" scale="1.0000E+00 1.0000E+00 1.0000E+00"/>
      </geometry>
      <material name=""/>
    </visual>
    <collision>
      <origin xyz="0 0 0" rpy="0 0 0"/>
      <geometry>
        <mesh filename="screw~screw1_convex_piece_27.obj" scale="1.0000E+00 1.0000E+00 1.0000E+00"/>
      </geometry>
    </collision>
  </link>
  <joint name="link_screw~screw1_convex_piece_27_joint" type="fixed">
    <origin xyz="0 0 0" rpy="0 0 0"/>
    <parent link="link_screw~screw1_convex_piece_26"/>
    <child link="link_screw~screw1_convex_piece_27"/>
  </joint>
  <link name="link_screw~screw1_convex_piece_28">
    <inertial>
      <origin xyz="0 0 0" rpy="0 0 0"/>
      <mass value="1.57E-03"/>
      <inertia ixx="2.11E-07" ixy="1.67E-08" ixz="1.65E-07" iyy="3.44E-07" iyz="-1.63E-08" izz="2.22E-07"/>
    </inertial>
    <visual>
      <origin xyz="0 0 0" rpy="0 0 0"/>
      <geometry>
        <mesh filename="screw~screw1_convex_piece_28.obj" scale="1.0000E+00 1.0000E+00 1.0000E+00"/>
      </geometry>
      <material name=""/>
    </visual>
    <collision>
      <origin xyz="0 0 0" rpy="0 0 0"/>
      <geometry>
        <mesh filename="screw~screw1_convex_piece_28.obj" scale="1.0000E+00 1.0000E+00 1.0000E+00"/>
      </geometry>
    </collision>
  </link>
  <joint name="link_screw~screw1_convex_piece_28_joint" type="fixed">
    <origin xyz="0 0 0" rpy="0 0 0"/>
    <parent link="link_screw~screw1_convex_piece_27"/>
    <child link="link_screw~screw1_convex_piece_28"/>
  </joint>
  <link name="link_screw~screw1_convex_piece_29">
    <inertial>
      <origin xyz="0 0 0" rpy="0 0 0"/>
      <mass value="1.36E-03"/>
      <inertia ixx="3.38E-07" ixy="2.16E-07" ixz="-4.42E-09" iyy="1.79E-07" iyz="5.86E-09" izz="4.70E-07"/>
    </inertial>
    <visual>
      <origin xyz="0 0 0" rpy="0 0 0"/>
      <geometry>
        <mesh filename="screw~screw1_convex_piece_29.obj" scale="1.0000E+00 1.0000E+00 1.0000E+00"/>
      </geometry>
      <material name=""/>
    </visual>
    <collision>
      <origin xyz="0 0 0" rpy="0 0 0"/>
      <geometry>
        <mesh filename="screw~screw1_convex_piece_29.obj" scale="1.0000E+00 1.0000E+00 1.0000E+00"/>
      </geometry>
    </collision>
  </link>
  <joint name="link_screw~screw1_convex_piece_29_joint" type="fixed">
    <origin xyz="0 0 0" rpy="0 0 0"/>
    <parent link="link_screw~screw1_convex_piece_28"/>
    <child link="link_screw~screw1_convex_piece_29"/>
  </joint>
  <link name="link_screw~screw1_convex_piece_30">
    <inertial>
      <origin xyz="0 0 0" rpy="0 0 0"/>
      <mass value="3.46E-04"/>
      <inertia ixx="8.19E-08" ixy="8.66E-09" ixz="3.47E-09" iyy="1.50E-08" iyz="-2.89E-08" izz="7.01E-08"/>
    </inertial>
    <visual>
      <origin xyz="0 0 0" rpy="0 0 0"/>
      <geometry>
        <mesh filename="screw~screw1_convex_piece_30.obj" scale="1.0000E+00 1.0000E+00 1.0000E+00"/>
      </geometry>
      <material name=""/>
    </visual>
    <collision>
      <origin xyz="0 0 0" rpy="0 0 0"/>
      <geometry>
        <mesh filename="screw~screw1_convex_piece_30.obj" scale="1.0000E+00 1.0000E+00 1.0000E+00"/>
      </geometry>
    </collision>
  </link>
  <joint name="link_screw~screw1_convex_piece_30_joint" type="fixed">
    <origin xyz="0 0 0" rpy="0 0 0"/>
    <parent link="link_screw~screw1_convex_piece_29"/>
    <child link="link_screw~screw1_convex_piece_30"/>
  </joint>
  <link name="link_screw~screw1_convex_piece_31">
    <inertial>
      <origin xyz="0 0 0" rpy="0 0 0"/>
      <mass value="3.64E-03"/>
      <inertia ixx="1.56E-07" ixy="-4.01E-08" ixz="1.90E-08" iyy="7.61E-07" iyz="7.98E-10" izz="7.96E-07"/>
    </inertial>
    <visual>
      <origin xyz="0 0 0" rpy="0 0 0"/>
      <geometry>
        <mesh filename="screw~screw1_convex_piece_31.obj" scale="1.0000E+00 1.0000E+00 1.0000E+00"/>
      </geometry>
      <material name=""/>
    </visual>
    <collision>
      <origin xyz="0 0 0" rpy="0 0 0"/>
      <geometry>
        <mesh filename="screw~screw1_convex_piece_31.obj" scale="1.0000E+00 1.0000E+00 1.0000E+00"/>
      </geometry>
    </collision>
  </link>
  <joint name="link_screw~screw1_convex_piece_31_joint" type="fixed">
    <origin xyz="0 0 0" rpy="0 0 0"/>
    <parent link="link_screw~screw1_convex_piece_30"/>
    <child link="link_screw~screw1_convex_piece_31"/>
  </joint>
  <link name="link_screw~screw1_convex_piece_32">
    <inertial>
      <origin xyz="0 0 0" rpy="0 0 0"/>
      <mass value="1.42E-03"/>
      <inertia ixx="4.89E-07" ixy="5.16E-09" ixz="-3.59E-09" iyy="1.86E-07" iyz="2.24E-07" izz="3.51E-07"/>
    </inertial>
    <visual>
      <origin xyz="0 0 0" rpy="0 0 0"/>
      <geometry>
        <mesh filename="screw~screw1_convex_piece_32.obj" scale="1.0000E+00 1.0000E+00 1.0000E+00"/>
      </geometry>
      <material name=""/>
    </visual>
    <collision>
      <origin xyz="0 0 0" rpy="0 0 0"/>
      <geometry>
        <mesh filename="screw~screw1_convex_piece_32.obj" scale="1.0000E+00 1.0000E+00 1.0000E+00"/>
      </geometry>
    </collision>
  </link>
  <joint name="link_screw~screw1_convex_piece_32_joint" type="fixed">
    <origin xyz="0 0 0" rpy="0 0 0"/>
    <parent link="link_screw~screw1_convex_piece_31"/>
    <child link="link_screw~screw1_convex_piece_32"/>
  </joint>
  <link name="link_screw~screw1_convex_piece_33">
    <inertial>
      <origin xyz="0 0 0" rpy="0 0 0"/>
      <mass value="8.13E-04"/>
      <inertia ixx="3.11E-07" ixy="-1.26E-07" ixz="4.05E-08" iyy="9.47E-08" iyz="9.00E-08" izz="3.45E-07"/>
    </inertial>
    <visual>
      <origin xyz="0 0 0" rpy="0 0 0"/>
      <geometry>
        <mesh filename="screw~screw1_convex_piece_33.obj" scale="1.0000E+00 1.0000E+00 1.0000E+00"/>
      </geometry>
      <material name=""/>
    </visual>
    <collision>
      <origin xyz="0 0 0" rpy="0 0 0"/>
      <geometry>
        <mesh filename="screw~screw1_convex_piece_33.obj" scale="1.0000E+00 1.0000E+00 1.0000E+00"/>
      </geometry>
    </collision>
  </link>
  <joint name="link_screw~screw1_convex_piece_33_joint" type="fixed">
    <origin xyz="0 0 0" rpy="0 0 0"/>
    <parent link="link_screw~screw1_convex_piece_32"/>
    <child link="link_screw~screw1_convex_piece_33"/>
  </joint>
  <link name="link_screw~screw1_convex_piece_34">
    <inertial>
      <origin xyz="0 0 0" rpy="0 0 0"/>
      <mass value="3.82E-03"/>
      <inertia ixx="8.25E-07" ixy="6.86E-10" ixz="4.38E-09" iyy="7.89E-07" iyz="-4.53E-08" izz="1.71E-07"/>
    </inertial>
    <visual>
      <origin xyz="0 0 0" rpy="0 0 0"/>
      <geometry>
        <mesh filename="screw~screw1_convex_piece_34.obj" scale="1.0000E+00 1.0000E+00 1.0000E+00"/>
      </geometry>
      <material name=""/>
    </visual>
    <collision>
      <origin xyz="0 0 0" rpy="0 0 0"/>
      <geometry>
        <mesh filename="screw~screw1_convex_piece_34.obj" scale="1.0000E+00 1.0000E+00 1.0000E+00"/>
      </geometry>
    </collision>
  </link>
  <joint name="link_screw~screw1_convex_piece_34_joint" type="fixed">
    <origin xyz="0 0 0" rpy="0 0 0"/>
    <parent link="link_screw~screw1_convex_piece_33"/>
    <child link="link_screw~screw1_convex_piece_34"/>
  </joint>
  <link name="link_screw~screw1_convex_piece_35">
    <inertial>
      <origin xyz="0 0 0" rpy="0 0 0"/>
      <mass value="1.11E-03"/>
      <inertia ixx="2.06E-07" ixy="-6.22E-09" ixz="3.06E-09" iyy="5.48E-08" iyz="8.15E-08" izz="1.68E-07"/>
    </inertial>
    <visual>
      <origin xyz="0 0 0" rpy="0 0 0"/>
      <geometry>
        <mesh filename="screw~screw1_convex_piece_35.obj" scale="1.0000E+00 1.0000E+00 1.0000E+00"/>
      </geometry>
      <material name=""/>
    </visual>
    <collision>
      <origin xyz="0 0 0" rpy="0 0 0"/>
      <geometry>
        <mesh filename="screw~screw1_convex_piece_35.obj" scale="1.0000E+00 1.0000E+00 1.0000E+00"/>
      </geometry>
    </collision>
  </link>
  <joint name="link_screw~screw1_convex_piece_35_joint" type="fixed">
    <origin xyz="0 0 0" rpy="0 0 0"/>
    <parent link="link_screw~screw1_convex_piece_34"/>
    <child link="link_screw~screw1_convex_piece_35"/>
  </joint>
  <link name="link_screw~screw1_convex_piece_36">
    <inertial>
      <origin xyz="0 0 0" rpy="0 0 0"/>
      <mass value="2.08E-03"/>
      <inertia ixx="4.10E-07" ixy="-3.06E-08" ixz="-1.28E-08" iyy="4.62E-08" iyz="-7.87E-08" izz="3.81E-07"/>
    </inertial>
    <visual>
      <origin xyz="0 0 0" rpy="0 0 0"/>
      <geometry>
        <mesh filename="screw~screw1_convex_piece_36.obj" scale="1.0000E+00 1.0000E+00 1.0000E+00"/>
      </geometry>
      <material name=""/>
    </visual>
    <collision>
      <origin xyz="0 0 0" rpy="0 0 0"/>
      <geometry>
        <mesh filename="screw~screw1_convex_piece_36.obj" scale="1.0000E+00 1.0000E+00 1.0000E+00"/>
      </geometry>
    </collision>
  </link>
  <joint name="link_screw~screw1_convex_piece_36_joint" type="fixed">
    <origin xyz="0 0 0" rpy="0 0 0"/>
    <parent link="link_screw~screw1_convex_piece_35"/>
    <child link="link_screw~screw1_convex_piece_36"/>
  </joint>
  <link name="link_screw~screw1_convex_piece_37">
    <inertial>
      <origin xyz="0 0 0" rpy="0 0 0"/>
      <mass value="1.43E-03"/>
      <inertia ixx="8.27E-08" ixy="2.06E-08" ixz="9.64E-08" iyy="2.81E-07" iyz="-8.95E-09" izz="2.77E-07"/>
    </inertial>
    <visual>
      <origin xyz="0 0 0" rpy="0 0 0"/>
      <geometry>
        <mesh filename="screw~screw1_convex_piece_37.obj" scale="1.0000E+00 1.0000E+00 1.0000E+00"/>
      </geometry>
      <material name=""/>
    </visual>
    <collision>
      <origin xyz="0 0 0" rpy="0 0 0"/>
      <geometry>
        <mesh filename="screw~screw1_convex_piece_37.obj" scale="1.0000E+00 1.0000E+00 1.0000E+00"/>
      </geometry>
    </collision>
  </link>
  <joint name="link_screw~screw1_convex_piece_37_joint" type="fixed">
    <origin xyz="0 0 0" rpy="0 0 0"/>
    <parent link="link_screw~screw1_convex_piece_36"/>
    <child link="link_screw~screw1_convex_piece_37"/>
  </joint>
  <link name="link_screw~screw1_convex_piece_38">
    <inertial>
      <origin xyz="0 0 0" rpy="0 0 0"/>
      <mass value="2.96E-04"/>
      <inertia ixx="6.99E-08" ixy="6.82E-09" ixz="7.12E-10" iyy="2.06E-09" iyz="-5.44E-09" izz="7.02E-08"/>
    </inertial>
    <visual>
      <origin xyz="0 0 0" rpy="0 0 0"/>
      <geometry>
        <mesh filename="screw~screw1_convex_piece_38.obj" scale="1.0000E+00 1.0000E+00 1.0000E+00"/>
      </geometry>
      <material name=""/>
    </visual>
    <collision>
      <origin xyz="0 0 0" rpy="0 0 0"/>
      <geometry>
        <mesh filename="screw~screw1_convex_piece_38.obj" scale="1.0000E+00 1.0000E+00 1.0000E+00"/>
      </geometry>
    </collision>
  </link>
  <joint name="link_screw~screw1_convex_piece_38_joint" type="fixed">
    <origin xyz="0 0 0" rpy="0 0 0"/>
    <parent link="link_screw~screw1_convex_piece_37"/>
    <child link="link_screw~screw1_convex_piece_38"/>
  </joint>
  <link name="link_screw~screw1_convex_piece_39">
    <inertial>
      <origin xyz="0 0 0" rpy="0 0 0"/>
      <mass value="2.61E-03"/>
      <inertia ixx="5.27E-07" ixy="-5.35E-08" ixz="-7.48E-08" iyy="3.51E-07" iyz="-2.11E-07" izz="2.23E-07"/>
    </inertial>
    <visual>
      <origin xyz="0 0 0" rpy="0 0 0"/>
      <geometry>
        <mesh filename="screw~screw1_convex_piece_39.obj" scale="1.0000E+00 1.0000E+00 1.0000E+00"/>
      </geometry>
      <material name=""/>
    </visual>
    <collision>
      <origin xyz="0 0 0" rpy="0 0 0"/>
      <geometry>
        <mesh filename="screw~screw1_convex_piece_39.obj" scale="1.0000E+00 1.0000E+00 1.0000E+00"/>
      </geometry>
    </collision>
  </link>
  <joint name="link_screw~screw1_convex_piece_39_joint" type="fixed">
    <origin xyz="0 0 0" rpy="0 0 0"/>
    <parent link="link_screw~screw1_convex_piece_38"/>
    <child link="link_screw~screw1_convex_piece_39"/>
  </joint>
  <link name="link_screw~screw1_convex_piece_40">
    <inertial>
      <origin xyz="0 0 0" rpy="0 0 0"/>
      <mass value="1.01E-03"/>
      <inertia ixx="4.09E-07" ixy="1.13E-07" ixz="-4.47E-08" iyy="1.09E-07" iyz="1.36E-07" izz="3.79E-07"/>
    </inertial>
    <visual>
      <origin xyz="0 0 0" rpy="0 0 0"/>
      <geometry>
        <mesh filename="screw~screw1_convex_piece_40.obj" scale="1.0000E+00 1.0000E+00 1.0000E+00"/>
      </geometry>
      <material name=""/>
    </visual>
    <collision>
      <origin xyz="0 0 0" rpy="0 0 0"/>
      <geometry>
        <mesh filename="screw~screw1_convex_piece_40.obj" scale="1.0000E+00 1.0000E+00 1.0000E+00"/>
      </geometry>
    </collision>
  </link>
  <joint name="link_screw~screw1_convex_piece_40_joint" type="fixed">
    <origin xyz="0 0 0" rpy="0 0 0"/>
    <parent link="link_screw~screw1_convex_piece_39"/>
    <child link="link_screw~screw1_convex_piece_40"/>
  </joint>
  <link name="link_screw~screw1_convex_piece_41">
    <inertial>
      <origin xyz="0 0 0" rpy="0 0 0"/>
      <mass value="5.88E-04"/>
      <inertia ixx="6.74E-08" ixy="6.74E-08" ixz="-1.50E-08" iyy="1.09E-07" iyz="1.26E-08" izz="1.43E-07"/>
    </inertial>
    <visual>
      <origin xyz="0 0 0" rpy="0 0 0"/>
      <geometry>
        <mesh filename="screw~screw1_convex_piece_41.obj" scale="1.0000E+00 1.0000E+00 1.0000E+00"/>
      </geometry>
      <material name=""/>
    </visual>
    <collision>
      <origin xyz="0 0 0" rpy="0 0 0"/>
      <geometry>
        <mesh filename="screw~screw1_convex_piece_41.obj" scale="1.0000E+00 1.0000E+00 1.0000E+00"/>
      </geometry>
    </collision>
  </link>
  <joint name="link_screw~screw1_convex_piece_41_joint" type="fixed">
    <origin xyz="0 0 0" rpy="0 0 0"/>
    <parent link="link_screw~screw1_convex_piece_40"/>
    <child link="link_screw~screw1_convex_piece_41"/>
  </joint>
  <link name="link_screw~screw1_convex_piece_42">
    <inertial>
      <origin xyz="0 0 0" rpy="0 0 0"/>
      <mass value="2.65E-03"/>
      <inertia ixx="8.67E-07" ixy="1.89E-08" ixz="1.11E-08" iyy="3.12E-07" iyz="-3.80E-07" izz="6.69E-07"/>
    </inertial>
    <visual>
      <origin xyz="0 0 0" rpy="0 0 0"/>
      <geometry>
        <mesh filename="screw~screw1_convex_piece_42.obj" scale="1.0000E+00 1.0000E+00 1.0000E+00"/>
      </geometry>
      <material name=""/>
    </visual>
    <collision>
      <origin xyz="0 0 0" rpy="0 0 0"/>
      <geometry>
        <mesh filename="screw~screw1_convex_piece_42.obj" scale="1.0000E+00 1.0000E+00 1.0000E+00"/>
      </geometry>
    </collision>
  </link>
  <joint name="link_screw~screw1_convex_piece_42_joint" type="fixed">
    <origin xyz="0 0 0" rpy="0 0 0"/>
    <parent link="link_screw~screw1_convex_piece_41"/>
    <child link="link_screw~screw1_convex_piece_42"/>
  </joint>
  <link name="link_screw~screw1_convex_piece_43">
    <inertial>
      <origin xyz="0 0 0" rpy="0 0 0"/>
      <mass value="1.81E-03"/>
      <inertia ixx="2.42E-07" ixy="-2.25E-08" ixz="-1.86E-07" iyy="3.93E-07" iyz="-2.12E-08" izz="2.60E-07"/>
    </inertial>
    <visual>
      <origin xyz="0 0 0" rpy="0 0 0"/>
      <geometry>
        <mesh filename="screw~screw1_convex_piece_43.obj" scale="1.0000E+00 1.0000E+00 1.0000E+00"/>
      </geometry>
      <material name=""/>
    </visual>
    <collision>
      <origin xyz="0 0 0" rpy="0 0 0"/>
      <geometry>
        <mesh filename="screw~screw1_convex_piece_43.obj" scale="1.0000E+00 1.0000E+00 1.0000E+00"/>
      </geometry>
    </collision>
  </link>
  <joint name="link_screw~screw1_convex_piece_43_joint" type="fixed">
    <origin xyz="0 0 0" rpy="0 0 0"/>
    <parent link="link_screw~screw1_convex_piece_42"/>
    <child link="link_screw~screw1_convex_piece_43"/>
  </joint>
  <link name="link_screw~screw1_convex_piece_44">
    <inertial>
      <origin xyz="0 0 0" rpy="0 0 0"/>
      <mass value="3.59E-04"/>
      <inertia ixx="3.06E-07" ixy="-2.54E-09" ixz="-1.61E-10" iyy="7.02E-09" iyz="-3.76E-08" izz="3.02E-07"/>
    </inertial>
    <visual>
      <origin xyz="0 0 0" rpy="0 0 0"/>
      <geometry>
        <mesh filename="screw~screw1_convex_piece_44.obj" scale="1.0000E+00 1.0000E+00 1.0000E+00"/>
      </geometry>
      <material name=""/>
    </visual>
    <collision>
      <origin xyz="0 0 0" rpy="0 0 0"/>
      <geometry>
        <mesh filename="screw~screw1_convex_piece_44.obj" scale="1.0000E+00 1.0000E+00 1.0000E+00"/>
      </geometry>
    </collision>
  </link>
  <joint name="link_screw~screw1_convex_piece_44_joint" type="fixed">
    <origin xyz="0 0 0" rpy="0 0 0"/>
    <parent link="link_screw~screw1_convex_piece_43"/>
    <child link="link_screw~screw1_convex_piece_44"/>
  </joint>
  <link name="link_screw~screw1_convex_piece_45">
    <inertial>
      <origin xyz="0 0 0" rpy="0 0 0"/>
      <mass value="6.53E-03"/>
      <inertia ixx="1.65E-06" ixy="1.05E-06" ixz="1.59E-09" iyy="1.20E-06" iyz="4.91E-09" izz="2.27E-06"/>
    </inertial>
    <visual>
      <origin xyz="0 0 0" rpy="0 0 0"/>
      <geometry>
        <mesh filename="screw~screw1_convex_piece_45.obj" scale="1.0000E+00 1.0000E+00 1.0000E+00"/>
      </geometry>
      <material name=""/>
    </visual>
    <collision>
      <origin xyz="0 0 0" rpy="0 0 0"/>
      <geometry>
        <mesh filename="screw~screw1_convex_piece_45.obj" scale="1.0000E+00 1.0000E+00 1.0000E+00"/>
      </geometry>
    </collision>
  </link>
  <joint name="link_screw~screw1_convex_piece_45_joint" type="fixed">
    <origin xyz="0 0 0" rpy="0 0 0"/>
    <parent link="link_screw~screw1_convex_piece_44"/>
    <child link="link_screw~screw1_convex_piece_45"/>
  </joint>
  <link name="link_screw~screw1_convex_piece_46">
    <inertial>
      <origin xyz="0 0 0" rpy="0 0 0"/>
      <mass value="5.35E-04"/>
      <inertia ixx="1.96E-07" ixy="2.67E-09" ixz="2.17E-09" iyy="1.02E-07" iyz="-9.62E-08" izz="9.76E-08"/>
    </inertial>
    <visual>
      <origin xyz="0 0 0" rpy="0 0 0"/>
      <geometry>
        <mesh filename="screw~screw1_convex_piece_46.obj" scale="1.0000E+00 1.0000E+00 1.0000E+00"/>
      </geometry>
      <material name=""/>
    </visual>
    <collision>
      <origin xyz="0 0 0" rpy="0 0 0"/>
      <geometry>
        <mesh filename="screw~screw1_convex_piece_46.obj" scale="1.0000E+00 1.0000E+00 1.0000E+00"/>
      </geometry>
    </collision>
  </link>
  <joint name="link_screw~screw1_convex_piece_46_joint" type="fixed">
    <origin xyz="0 0 0" rpy="0 0 0"/>
    <parent link="link_screw~screw1_convex_piece_45"/>
    <child link="link_screw~screw1_convex_piece_46"/>
  </joint>
  <link name="link_screw~screw1_convex_piece_47">
    <inertial>
      <origin xyz="0 0 0" rpy="0 0 0"/>
      <mass value="5.12E-04"/>
      <inertia ixx="2.34E-07" ixy="7.47E-08" ixz="2.97E-09" iyy="3.33E-08" iyz="-8.28E-09" izz="2.52E-07"/>
    </inertial>
    <visual>
      <origin xyz="0 0 0" rpy="0 0 0"/>
      <geometry>
        <mesh filename="screw~screw1_convex_piece_47.obj" scale="1.0000E+00 1.0000E+00 1.0000E+00"/>
      </geometry>
      <material name=""/>
    </visual>
    <collision>
      <origin xyz="0 0 0" rpy="0 0 0"/>
      <geometry>
        <mesh filename="screw~screw1_convex_piece_47.obj" scale="1.0000E+00 1.0000E+00 1.0000E+00"/>
      </geometry>
    </collision>
  </link>
  <joint name="link_screw~screw1_convex_piece_47_joint" type="fixed">
    <origin xyz="0 0 0" rpy="0 0 0"/>
    <parent link="link_screw~screw1_convex_piece_46"/>
    <child link="link_screw~screw1_convex_piece_47"/>
  </joint>
  <link name="link_screw~screw1_convex_piece_48">
    <inertial>
      <origin xyz="0 0 0" rpy="0 0 0"/>
      <mass value="4.87E-04"/>
      <inertia ixx="5.88E-07" ixy="-3.80E-08" ixz="3.23E-09" iyy="9.52E-09" iyz="5.53E-08" izz="5.86E-07"/>
    </inertial>
    <visual>
      <origin xyz="0 0 0" rpy="0 0 0"/>
      <geometry>
        <mesh filename="screw~screw1_convex_piece_48.obj" scale="1.0000E+00 1.0000E+00 1.0000E+00"/>
      </geometry>
      <material name=""/>
    </visual>
    <collision>
      <origin xyz="0 0 0" rpy="0 0 0"/>
      <geometry>
        <mesh filename="screw~screw1_convex_piece_48.obj" scale="1.0000E+00 1.0000E+00 1.0000E+00"/>
      </geometry>
    </collision>
  </link>
  <joint name="link_screw~screw1_convex_piece_48_joint" type="fixed">
    <origin xyz="0 0 0" rpy="0 0 0"/>
    <parent link="link_screw~screw1_convex_piece_47"/>
    <child link="link_screw~screw1_convex_piece_48"/>
  </joint>
  <link name="link_screw~screw1_convex_piece_49">
    <inertial>
      <origin xyz="0 0 0" rpy="0 0 0"/>
      <mass value="7.57E-04"/>
      <inertia ixx="3.66E-07" ixy="2.79E-08" ixz="-5.45E-09" iyy="3.15E-08" iyz="8.39E-08" izz="3.48E-07"/>
    </inertial>
    <visual>
      <origin xyz="0 0 0" rpy="0 0 0"/>
      <geometry>
        <mesh filename="screw~screw1_convex_piece_49.obj" scale="1.0000E+00 1.0000E+00 1.0000E+00"/>
      </geometry>
      <material name=""/>
    </visual>
    <collision>
      <origin xyz="0 0 0" rpy="0 0 0"/>
      <geometry>
        <mesh filename="screw~screw1_convex_piece_49.obj" scale="1.0000E+00 1.0000E+00 1.0000E+00"/>
      </geometry>
    </collision>
  </link>
  <joint name="link_screw~screw1_convex_piece_49_joint" type="fixed">
    <origin xyz="0 0 0" rpy="0 0 0"/>
    <parent link="link_screw~screw1_convex_piece_48"/>
    <child link="link_screw~screw1_convex_piece_49"/>
  </joint>
  <link name="link_screw~screw1_convex_piece_50">
    <inertial>
      <origin xyz="0 0 0" rpy="0 0 0"/>
      <mass value="5.68E-04"/>
      <inertia ixx="4.31E-07" ixy="4.06E-09" ixz="-4.43E-10" iyy="1.20E-08" iyz="6.27E-08" izz="4.22E-07"/>
    </inertial>
    <visual>
      <origin xyz="0 0 0" rpy="0 0 0"/>
      <geometry>
        <mesh filename="screw~screw1_convex_piece_50.obj" scale="1.0000E+00 1.0000E+00 1.0000E+00"/>
      </geometry>
      <material name=""/>
    </visual>
    <collision>
      <origin xyz="0 0 0" rpy="0 0 0"/>
      <geometry>
        <mesh filename="screw~screw1_convex_piece_50.obj" scale="1.0000E+00 1.0000E+00 1.0000E+00"/>
      </geometry>
    </collision>
  </link>
  <joint name="link_screw~screw1_convex_piece_50_joint" type="fixed">
    <origin xyz="0 0 0" rpy="0 0 0"/>
    <parent link="link_screw~screw1_convex_piece_49"/>
    <child link="link_screw~screw1_convex_piece_50"/>
  </joint>
  <link name="link_screw~screw1_convex_piece_51">
    <inertial>
      <origin xyz="0 0 0" rpy="0 0 0"/>
      <mass value="2.77E-03"/>
      <inertia ixx="6.91E-07" ixy="-3.91E-07" ixz="4.11E-09" iyy="3.30E-07" iyz="3.74E-09" izz="8.90E-07"/>
    </inertial>
    <visual>
      <origin xyz="0 0 0" rpy="0 0 0"/>
      <geometry>
        <mesh filename="screw~screw1_convex_piece_51.obj" scale="1.0000E+00 1.0000E+00 1.0000E+00"/>
      </geometry>
      <material name=""/>
    </visual>
    <collision>
      <origin xyz="0 0 0" rpy="0 0 0"/>
      <geometry>
        <mesh filename="screw~screw1_convex_piece_51.obj" scale="1.0000E+00 1.0000E+00 1.0000E+00"/>
      </geometry>
    </collision>
  </link>
  <joint name="link_screw~screw1_convex_piece_51_joint" type="fixed">
    <origin xyz="0 0 0" rpy="0 0 0"/>
    <parent link="link_screw~screw1_convex_piece_50"/>
    <child link="link_screw~screw1_convex_piece_51"/>
  </joint>
  <link name="link_screw~screw1_convex_piece_52">
    <inertial>
      <origin xyz="0 0 0" rpy="0 0 0"/>
      <mass value="1.92E-03"/>
      <inertia ixx="3.03E-07" ixy="8.56E-08" ixz="-4.87E-09" iyy="5.03E-08" iyz="5.86E-09" izz="3.34E-07"/>
    </inertial>
    <visual>
      <origin xyz="0 0 0" rpy="0 0 0"/>
      <geometry>
        <mesh filename="screw~screw1_convex_piece_52.obj" scale="1.0000E+00 1.0000E+00 1.0000E+00"/>
      </geometry>
      <material name=""/>
    </visual>
    <collision>
      <origin xyz="0 0 0" rpy="0 0 0"/>
      <geometry>
        <mesh filename="screw~screw1_convex_piece_52.obj" scale="1.0000E+00 1.0000E+00 1.0000E+00"/>
      </geometry>
    </collision>
  </link>
  <joint name="link_screw~screw1_convex_piece_52_joint" type="fixed">
    <origin xyz="0 0 0" rpy="0 0 0"/>
    <parent link="link_screw~screw1_convex_piece_51"/>
    <child link="link_screw~screw1_convex_piece_52"/>
  </joint>
  <link name="link_screw~screw1_convex_piece_53">
    <inertial>
      <origin xyz="0 0 0" rpy="0 0 0"/>
      <mass value="8.10E-04"/>
      <inertia ixx="9.20E-07" ixy="7.51E-08" ixz="4.15E-09" iyy="1.45E-08" iyz="-6.24E-08" izz="9.22E-07"/>
    </inertial>
    <visual>
      <origin xyz="0 0 0" rpy="0 0 0"/>
      <geometry>
        <mesh filename="screw~screw1_convex_piece_53.obj" scale="1.0000E+00 1.0000E+00 1.0000E+00"/>
      </geometry>
      <material name=""/>
    </visual>
    <collision>
      <origin xyz="0 0 0" rpy="0 0 0"/>
      <geometry>
        <mesh filename="screw~screw1_convex_piece_53.obj" scale="1.0000E+00 1.0000E+00 1.0000E+00"/>
      </geometry>
    </collision>
  </link>
  <joint name="link_screw~screw1_convex_piece_53_joint" type="fixed">
    <origin xyz="0 0 0" rpy="0 0 0"/>
    <parent link="link_screw~screw1_convex_piece_52"/>
    <child link="link_screw~screw1_convex_piece_53"/>
  </joint>
  <link name="link_screw~screw1_convex_piece_54">
    <inertial>
      <origin xyz="0 0 0" rpy="0 0 0"/>
      <mass value="9.35E-04"/>
      <inertia ixx="1.10E-06" ixy="-8.97E-08" ixz="-3.25E-09" iyy="1.67E-08" iyz="-5.66E-08" izz="1.10E-06"/>
    </inertial>
    <visual>
      <origin xyz="0 0 0" rpy="0 0 0"/>
      <geometry>
        <mesh filename="screw~screw1_convex_piece_54.obj" scale="1.0000E+00 1.0000E+00 1.0000E+00"/>
      </geometry>
      <material name=""/>
    </visual>
    <collision>
      <origin xyz="0 0 0" rpy="0 0 0"/>
      <geometry>
        <mesh filename="screw~screw1_convex_piece_54.obj" scale="1.0000E+00 1.0000E+00 1.0000E+00"/>
      </geometry>
    </collision>
  </link>
  <joint name="link_screw~screw1_convex_piece_54_joint" type="fixed">
    <origin xyz="0 0 0" rpy="0 0 0"/>
    <parent link="link_screw~screw1_convex_piece_53"/>
    <child link="link_screw~screw1_convex_piece_54"/>
  </joint>
  <link name="link_screw~screw1_convex_piece_55">
    <inertial>
      <origin xyz="0 0 0" rpy="0 0 0"/>
      <mass value="1.57E-03"/>
      <inertia ixx="5.46E-07" ixy="-2.85E-07" ixz="-2.79E-08" iyy="1.84E-07" iyz="-4.60E-08" izz="6.90E-07"/>
    </inertial>
    <visual>
      <origin xyz="0 0 0" rpy="0 0 0"/>
      <geometry>
        <mesh filename="screw~screw1_convex_piece_55.obj" scale="1.0000E+00 1.0000E+00 1.0000E+00"/>
      </geometry>
      <material name=""/>
    </visual>
    <collision>
      <origin xyz="0 0 0" rpy="0 0 0"/>
      <geometry>
        <mesh filename="screw~screw1_convex_piece_55.obj" scale="1.0000E+00 1.0000E+00 1.0000E+00"/>
      </geometry>
    </collision>
  </link>
  <joint name="link_screw~screw1_convex_piece_55_joint" type="fixed">
    <origin xyz="0 0 0" rpy="0 0 0"/>
    <parent link="link_screw~screw1_convex_piece_54"/>
    <child link="link_screw~screw1_convex_piece_55"/>
  </joint>
  <link name="link_screw~screw1_convex_piece_56">
    <inertial>
      <origin xyz="0 0 0" rpy="0 0 0"/>
      <mass value="1.21E-03"/>
      <inertia ixx="5.47E-07" ixy="-4.54E-08" ixz="2.48E-08" iyy="1.42E-07" iyz="2.23E-07" izz="4.44E-07"/>
    </inertial>
    <visual>
      <origin xyz="0 0 0" rpy="0 0 0"/>
      <geometry>
        <mesh filename="screw~screw1_convex_piece_56.obj" scale="1.0000E+00 1.0000E+00 1.0000E+00"/>
      </geometry>
      <material name=""/>
    </visual>
    <collision>
      <origin xyz="0 0 0" rpy="0 0 0"/>
      <geometry>
        <mesh filename="screw~screw1_convex_piece_56.obj" scale="1.0000E+00 1.0000E+00 1.0000E+00"/>
      </geometry>
    </collision>
  </link>
  <joint name="link_screw~screw1_convex_piece_56_joint" type="fixed">
    <origin xyz="0 0 0" rpy="0 0 0"/>
    <parent link="link_screw~screw1_convex_piece_55"/>
    <child link="link_screw~screw1_convex_piece_56"/>
  </joint>
  <link name="link_screw~screw1_convex_piece_57">
    <inertial>
      <origin xyz="0 0 0" rpy="0 0 0"/>
      <mass value="8.57E-04"/>
      <inertia ixx="6.27E-07" ixy="-9.03E-08" ixz="9.60E-10" iyy="2.08E-08" iyz="9.14E-09" izz="6.36E-07"/>
    </inertial>
    <visual>
      <origin xyz="0 0 0" rpy="0 0 0"/>
      <geometry>
        <mesh filename="screw~screw1_convex_piece_57.obj" scale="1.0000E+00 1.0000E+00 1.0000E+00"/>
      </geometry>
      <material name=""/>
    </visual>
    <collision>
      <origin xyz="0 0 0" rpy="0 0 0"/>
      <geometry>
        <mesh filename="screw~screw1_convex_piece_57.obj" scale="1.0000E+00 1.0000E+00 1.0000E+00"/>
      </geometry>
    </collision>
  </link>
  <joint name="link_screw~screw1_convex_piece_57_joint" type="fixed">
    <origin xyz="0 0 0" rpy="0 0 0"/>
    <parent link="link_screw~screw1_convex_piece_56"/>
    <child link="link_screw~screw1_convex_piece_57"/>
  </joint>
  <link name="link_screw~screw1_convex_piece_58">
    <inertial>
      <origin xyz="0 0 0" rpy="0 0 0"/>
      <mass value="2.28E-03"/>
      <inertia ixx="8.81E-07" ixy="-9.29E-09" ixz="5.61E-09" iyy="4.95E-07" iyz="4.23E-07" izz="4.69E-07"/>
    </inertial>
    <visual>
      <origin xyz="0 0 0" rpy="0 0 0"/>
      <geometry>
        <mesh filename="screw~screw1_convex_piece_58.obj" scale="1.0000E+00 1.0000E+00 1.0000E+00"/>
      </geometry>
      <material name=""/>
    </visual>
    <collision>
      <origin xyz="0 0 0" rpy="0 0 0"/>
      <geometry>
        <mesh filename="screw~screw1_convex_piece_58.obj" scale="1.0000E+00 1.0000E+00 1.0000E+00"/>
      </geometry>
    </collision>
  </link>
  <joint name="link_screw~screw1_convex_piece_58_joint" type="fixed">
    <origin xyz="0 0 0" rpy="0 0 0"/>
    <parent link="link_screw~screw1_convex_piece_57"/>
    <child link="link_screw~screw1_convex_piece_58"/>
  </joint>
  <link name="link_screw~screw1_convex_piece_59">
    <inertial>
      <origin xyz="0 0 0" rpy="0 0 0"/>
      <mass value="5.97E-04"/>
      <inertia ixx="3.81E-07" ixy="4.84E-08" ixz="3.73E-10" iyy="1.43E-08" iyz="-1.17E-08" izz="3.83E-07"/>
    </inertial>
    <visual>
      <origin xyz="0 0 0" rpy="0 0 0"/>
      <geometry>
        <mesh filename="screw~screw1_convex_piece_59.obj" scale="1.0000E+00 1.0000E+00 1.0000E+00"/>
      </geometry>
      <material name=""/>
    </visual>
    <collision>
      <origin xyz="0 0 0" rpy="0 0 0"/>
      <geometry>
        <mesh filename="screw~screw1_convex_piece_59.obj" scale="1.0000E+00 1.0000E+00 1.0000E+00"/>
      </geometry>
    </collision>
  </link>
  <joint name="link_screw~screw1_convex_piece_59_joint" type="fixed">
    <origin xyz="0 0 0" rpy="0 0 0"/>
    <parent link="link_screw~screw1_convex_piece_58"/>
    <child link="link_screw~screw1_convex_piece_59"/>
  </joint>
  <link name="link_screw~screw1_convex_piece_60">
    <inertial>
      <origin xyz="0 0 0" rpy="0 0 0"/>
      <mass value="2.54E-03"/>
      <inertia ixx="2.71E-07" ixy="-2.29E-08" ixz="-2.73E-09" iyy="3.75E-08" iyz="-1.22E-08" izz="2.71E-07"/>
    </inertial>
    <visual>
      <origin xyz="0 0 0" rpy="0 0 0"/>
      <geometry>
        <mesh filename="screw~screw1_convex_piece_60.obj" scale="1.0000E+00 1.0000E+00 1.0000E+00"/>
      </geometry>
      <material name=""/>
    </visual>
    <collision>
      <origin xyz="0 0 0" rpy="0 0 0"/>
      <geometry>
        <mesh filename="screw~screw1_convex_piece_60.obj" scale="1.0000E+00 1.0000E+00 1.0000E+00"/>
      </geometry>
    </collision>
  </link>
  <joint name="link_screw~screw1_convex_piece_60_joint" type="fixed">
    <origin xyz="0 0 0" rpy="0 0 0"/>
    <parent link="link_screw~screw1_convex_piece_59"/>
    <child link="link_screw~screw1_convex_piece_60"/>
  </joint>
  <link name="link_screw~screw1_convex_piece_61">
    <inertial>
      <origin xyz="0 0 0" rpy="0 0 0"/>
      <mass value="3.05E-03"/>
      <inertia ixx="5.10E-07" ixy="-2.80E-08" ixz="2.67E-07" iyy="6.37E-07" iyz="4.31E-08" izz="2.97E-07"/>
    </inertial>
    <visual>
      <origin xyz="0 0 0" rpy="0 0 0"/>
      <geometry>
        <mesh filename="screw~screw1_convex_piece_61.obj" scale="1.0000E+00 1.0000E+00 1.0000E+00"/>
      </geometry>
      <material name=""/>
    </visual>
    <collision>
      <origin xyz="0 0 0" rpy="0 0 0"/>
      <geometry>
        <mesh filename="screw~screw1_convex_piece_61.obj" scale="1.0000E+00 1.0000E+00 1.0000E+00"/>
      </geometry>
    </collision>
  </link>
  <joint name="link_screw~screw1_convex_piece_61_joint" type="fixed">
    <origin xyz="0 0 0" rpy="0 0 0"/>
    <parent link="link_screw~screw1_convex_piece_60"/>
    <child link="link_screw~screw1_convex_piece_61"/>
  </joint>
  <link name="link_screw~screw1_convex_piece_62">
    <inertial>
      <origin xyz="0 0 0" rpy="0 0 0"/>
      <mass value="2.47E-03"/>
      <inertia ixx="1.10E-06" ixy="-1.09E-07" ixz="-4.38E-08" iyy="3.42E-07" iyz="-4.57E-07" izz="8.77E-07"/>
    </inertial>
    <visual>
      <origin xyz="0 0 0" rpy="0 0 0"/>
      <geometry>
        <mesh filename="screw~screw1_convex_piece_62.obj" scale="1.0000E+00 1.0000E+00 1.0000E+00"/>
      </geometry>
      <material name=""/>
    </visual>
    <collision>
      <origin xyz="0 0 0" rpy="0 0 0"/>
      <geometry>
        <mesh filename="screw~screw1_convex_piece_62.obj" scale="1.0000E+00 1.0000E+00 1.0000E+00"/>
      </geometry>
    </collision>
  </link>
  <joint name="link_screw~screw1_convex_piece_62_joint" type="fixed">
    <origin xyz="0 0 0" rpy="0 0 0"/>
    <parent link="link_screw~screw1_convex_piece_61"/>
    <child link="link_screw~screw1_convex_piece_62"/>
  </joint>
  <link name="link_screw~screw1_convex_piece_63">
    <inertial>
      <origin xyz="0 0 0" rpy="0 0 0"/>
      <mass value="1.42E-03"/>
      <inertia ixx="4.99E-07" ixy="1.05E-07" ixz="-2.87E-08" iyy="9.52E-08" iyz="1.40E-07" izz="4.89E-07"/>
    </inertial>
    <visual>
      <origin xyz="0 0 0" rpy="0 0 0"/>
      <geometry>
        <mesh filename="screw~screw1_convex_piece_63.obj" scale="1.0000E+00 1.0000E+00 1.0000E+00"/>
      </geometry>
      <material name=""/>
    </visual>
    <collision>
      <origin xyz="0 0 0" rpy="0 0 0"/>
      <geometry>
        <mesh filename="screw~screw1_convex_piece_63.obj" scale="1.0000E+00 1.0000E+00 1.0000E+00"/>
      </geometry>
    </collision>
  </link>
  <joint name="link_screw~screw1_convex_piece_63_joint" type="fixed">
    <origin xyz="0 0 0" rpy="0 0 0"/>
    <parent link="link_screw~screw1_convex_piece_62"/>
    <child link="link_screw~screw1_convex_piece_63"/>
  </joint>
</robot>
